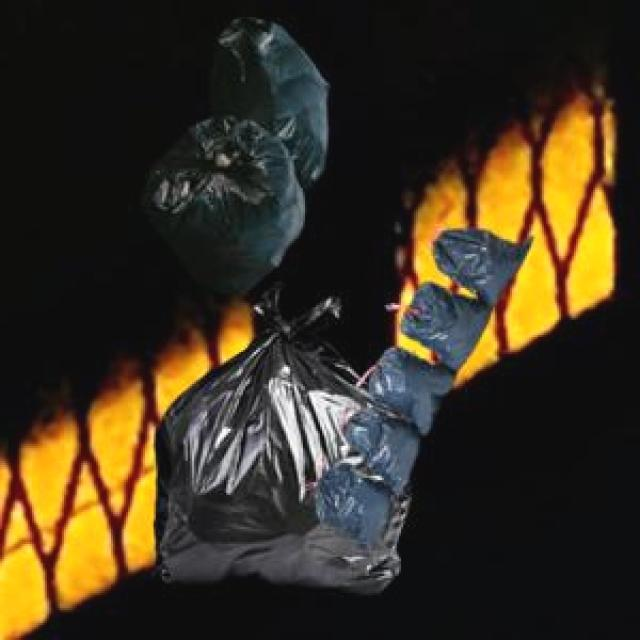Trashbag: (150, 330, 333, 583), (166, 136, 288, 267), (214, 28, 330, 147), (410, 287, 476, 364), (449, 223, 515, 293), (356, 413, 418, 484), (377, 354, 441, 420), (327, 474, 391, 535)
